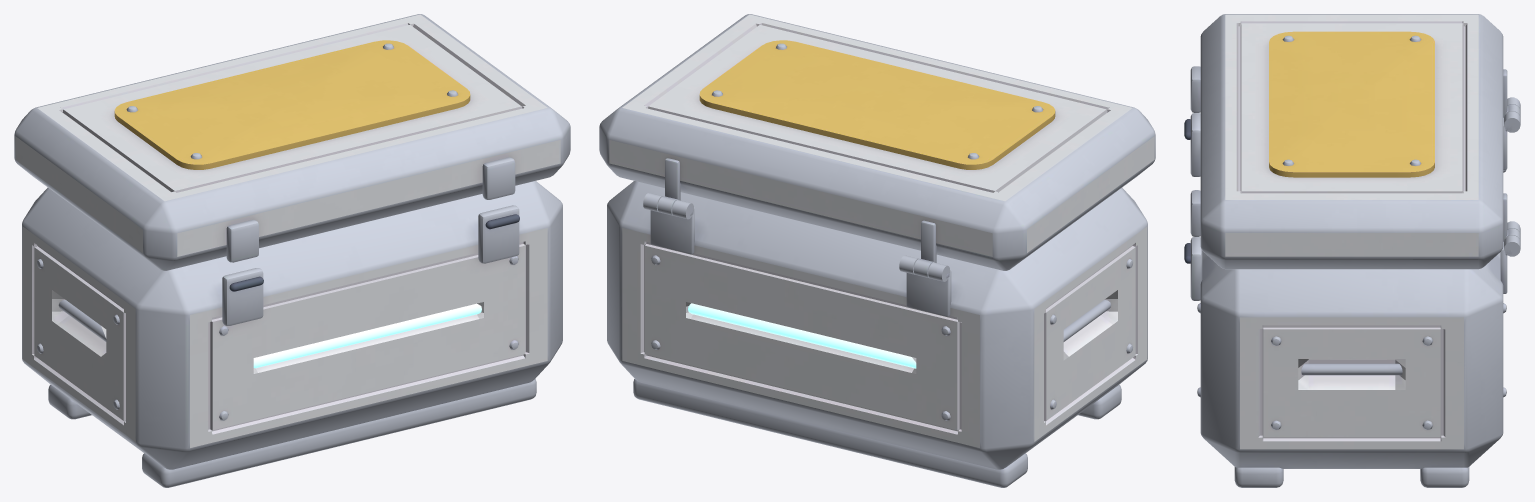
The model's file is tactical-cover-crate.glb.
3 views of the same model, side by side, from view 1: azimuth 30°, elevation 25°; view 2: azimuth 150°, elevation 25°; view 3: azimuth 270°, elevation 25° (orthographic).
Visible parts, largest first — view 1: sci-fi-crate_body, sci-fi-crate_lid, sci-fi-crate_light_strip_glow; view 2: sci-fi-crate_body, sci-fi-crate_lid, sci-fi-crate_light_strip_glow; view 3: sci-fi-crate_lid, sci-fi-crate_body.
Boxes of the visible parts, x1,y1,x2,y2 form: sci-fi-crate_body: [22, 181, 562, 487]; sci-fi-crate_lid: [14, 14, 570, 270]; sci-fi-crate_light_strip_glow: [253, 303, 481, 368]; sci-fi-crate_body: [607, 181, 1147, 487]; sci-fi-crate_lid: [599, 14, 1155, 278]; sci-fi-crate_light_strip_glow: [688, 303, 916, 368]; sci-fi-crate_lid: [1190, 14, 1520, 269]; sci-fi-crate_body: [1184, 97, 1520, 487].
Size of the model in its own units: 1.01 by 0.68 by 0.688.
Materials: 3 (2 with a texture image).
